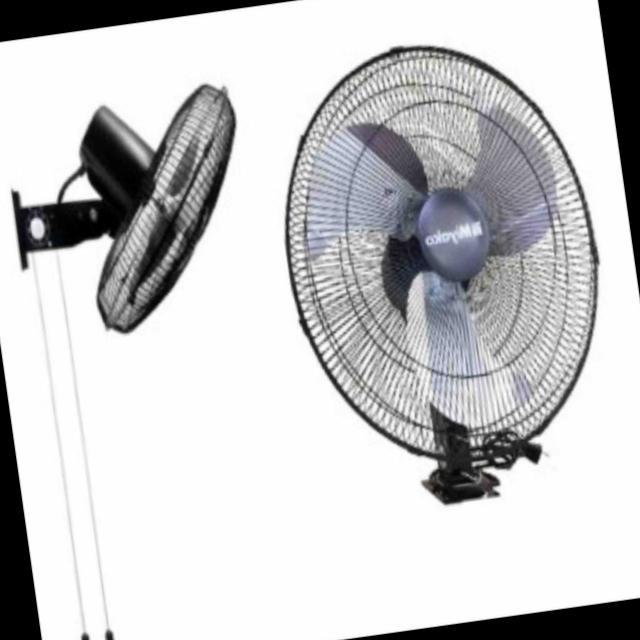fan: (254, 14, 637, 534)
